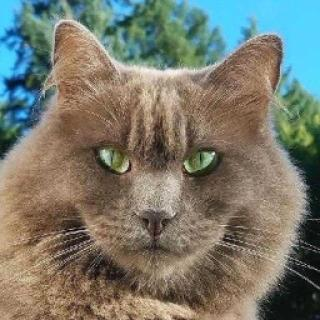cat: (46, 17, 293, 281)
nose: (128, 188, 178, 245)
